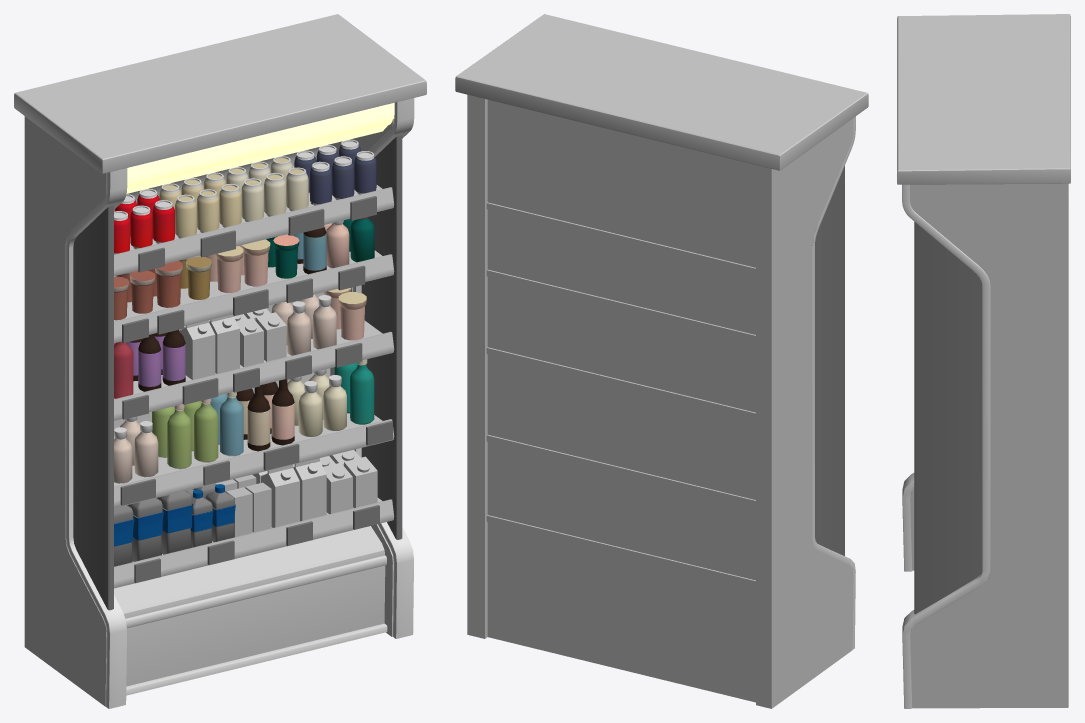
The model's file is SM_fridge_drinks.fbx.
3 renders of one model, left to right at view 1: azimuth 30°, elevation 25°; view 2: azimuth 150°, elevation 25°; view 3: azimuth 270°, elevation 25°, orthographic. The views are drawn at different scales.
Visible parts, largest first — view 1: Object32328; view 2: Object32328; view 3: Object32328.
Part boxes in pixels (x1=…): Object32328: x1=14, y1=14, x2=426, y2=708; Object32328: x1=455, y1=14, x2=868, y2=708; Object32328: x1=897, y1=14, x2=1070, y2=708.
Bounding box in the file's own units: 146 × 239 × 68.97.
